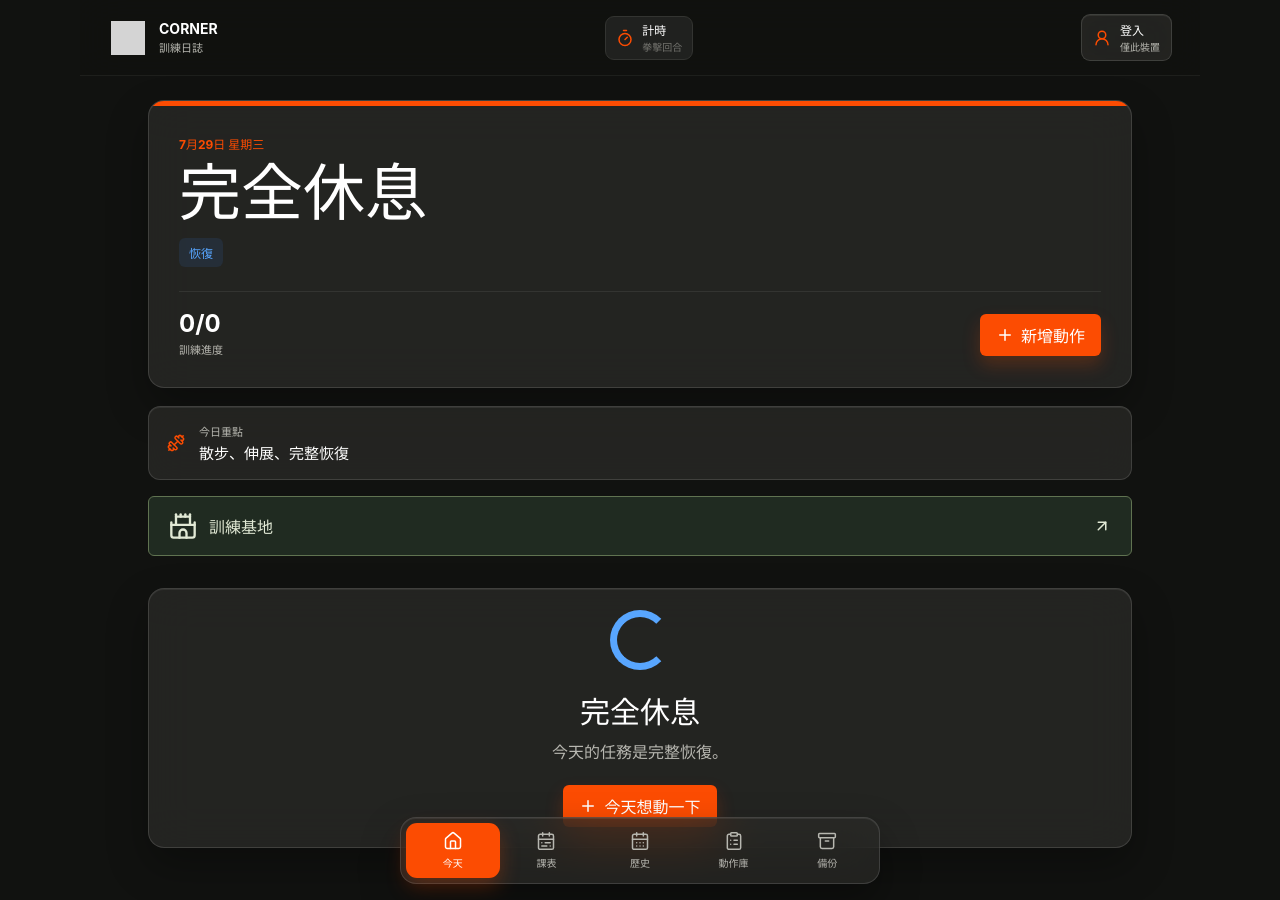
Boxing Tracker › adds an ad-hoc drill on a full rest day
The width and height of the screenshot is (1280, 900).
Expected: the 1st heading "完全休息" is shown, [179, 161, 427, 224]
Click the button "今天想動一下". click: (640, 806)
box: [564, 785, 716, 827]
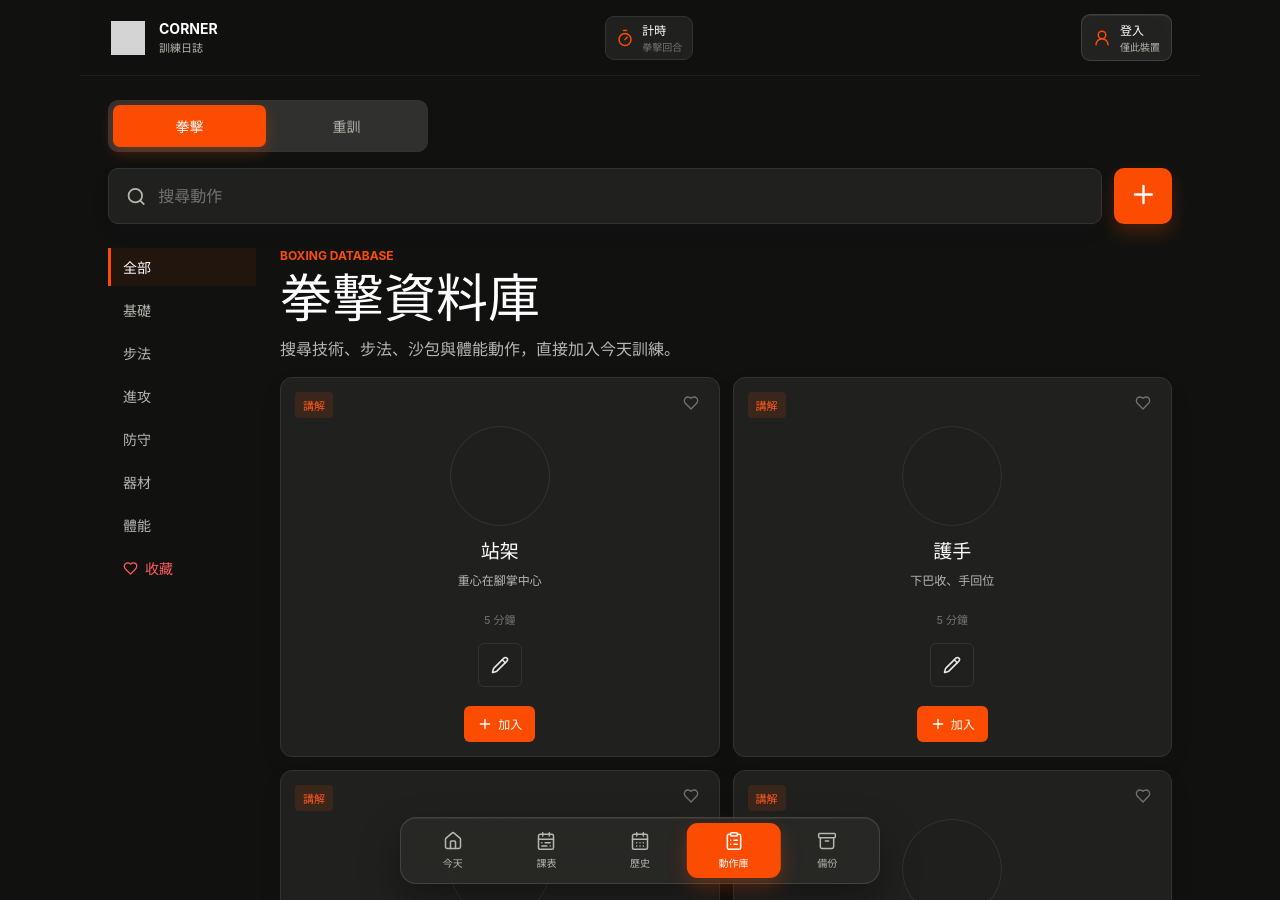
Type "jab" into the field with placeholder "搜尋動作". click: (620, 196)
box: [156, 185, 1084, 207]
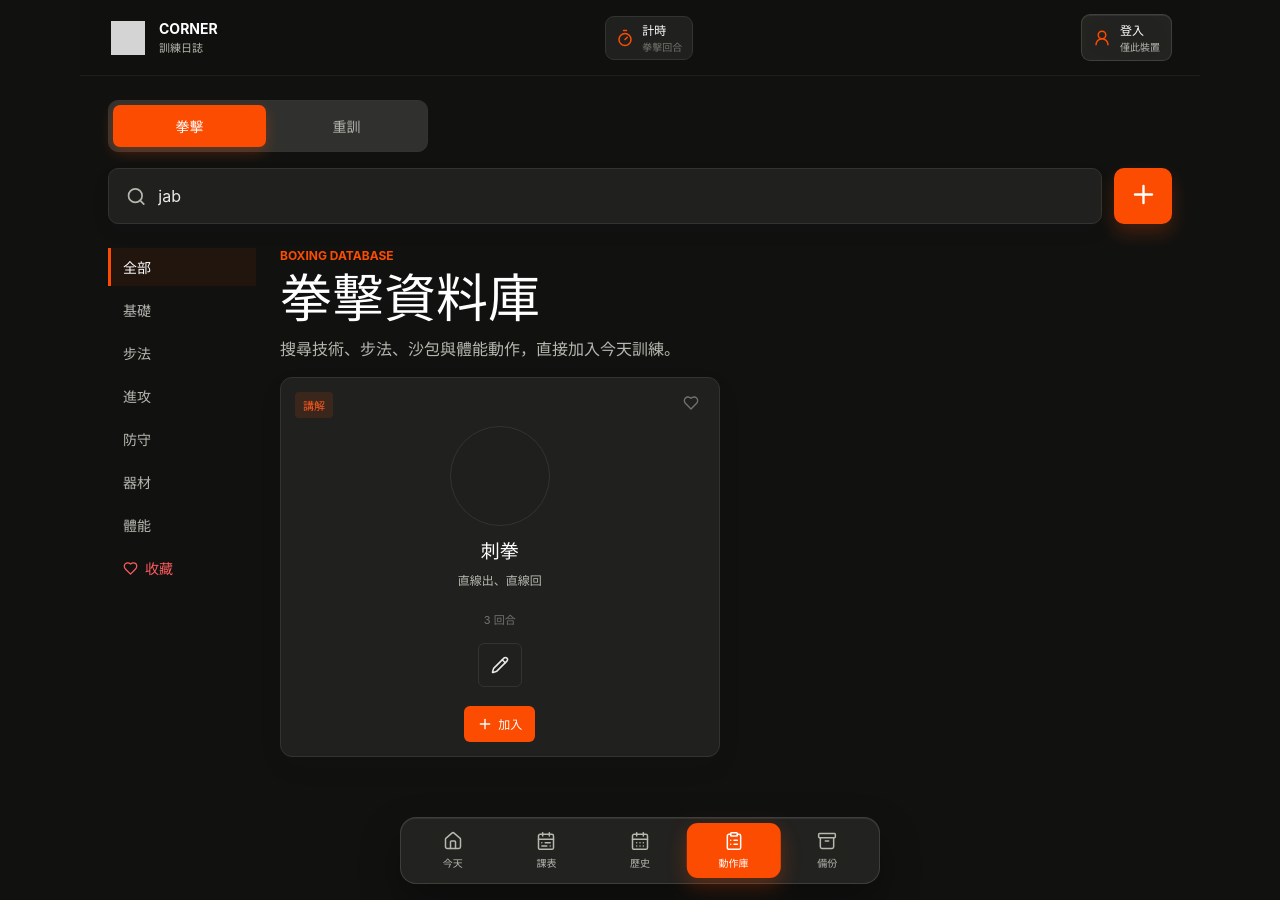
Click the button with aria-label "加入 刺拳". click: (500, 724)
box: [464, 706, 535, 742]
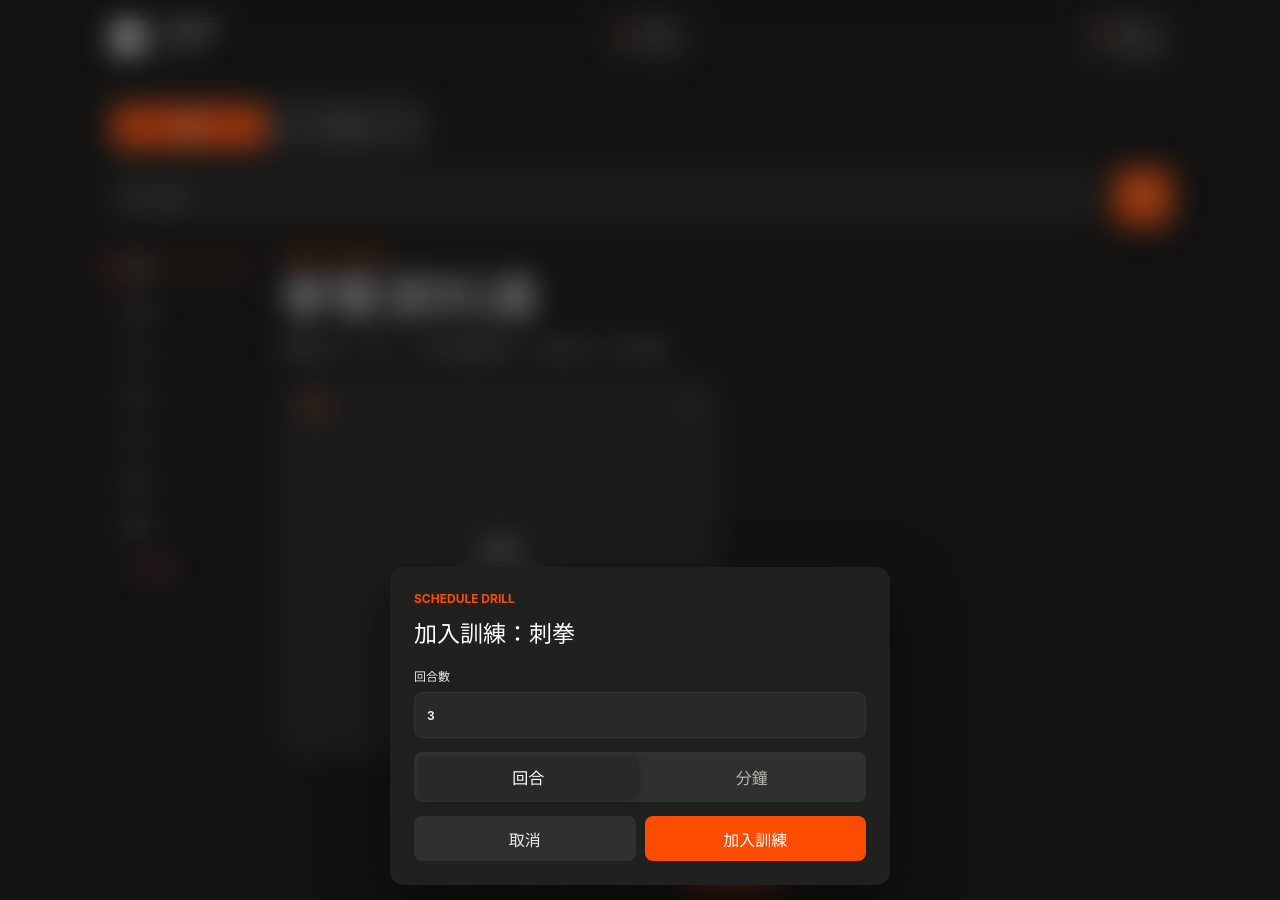
Click the button "加入訓練". click: (755, 838)
box: [644, 816, 866, 861]
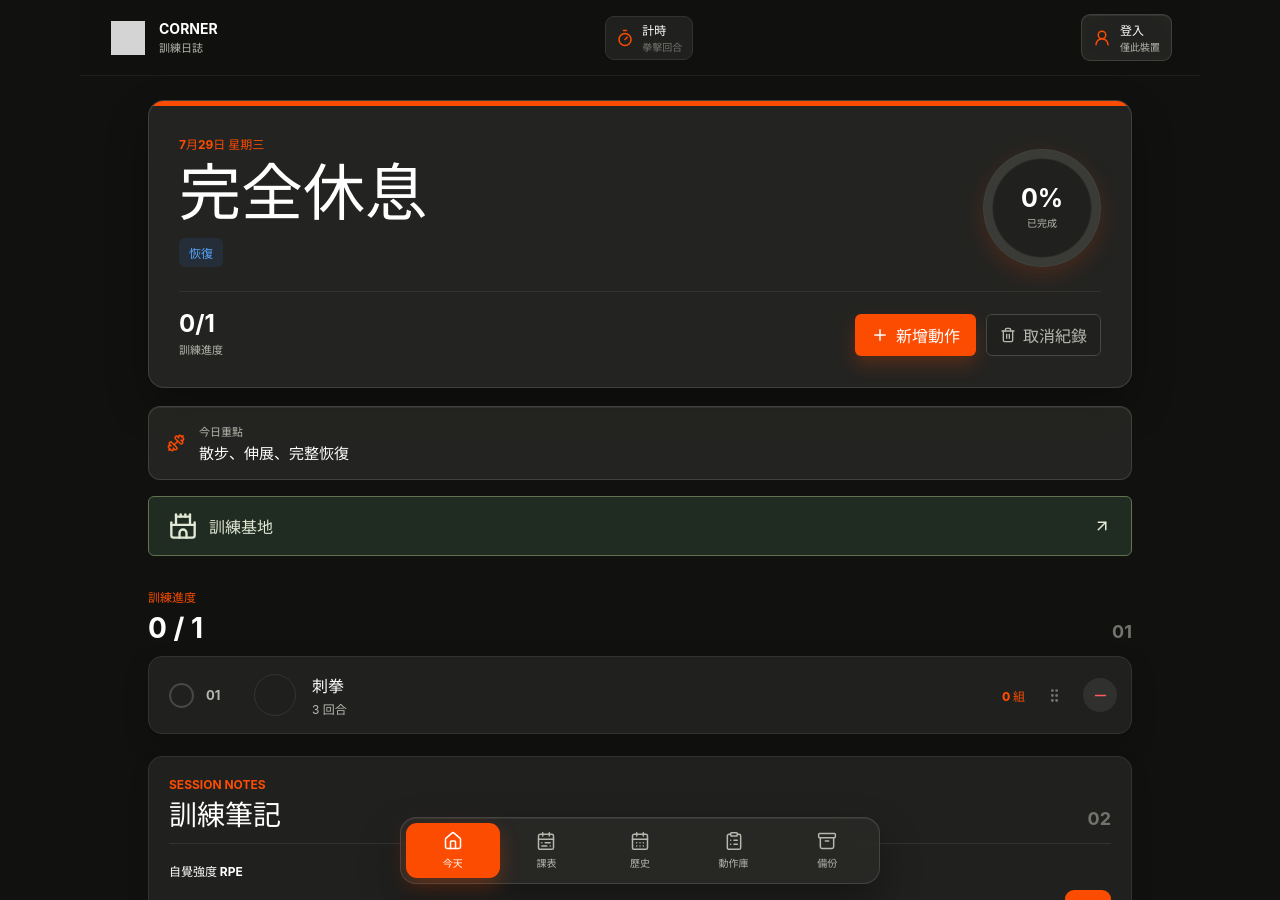
Expected: the text "刺拳" is shown, [312, 676, 344, 696]
Expected: the heading "0 / 1" is shown, [148, 614, 203, 642]
